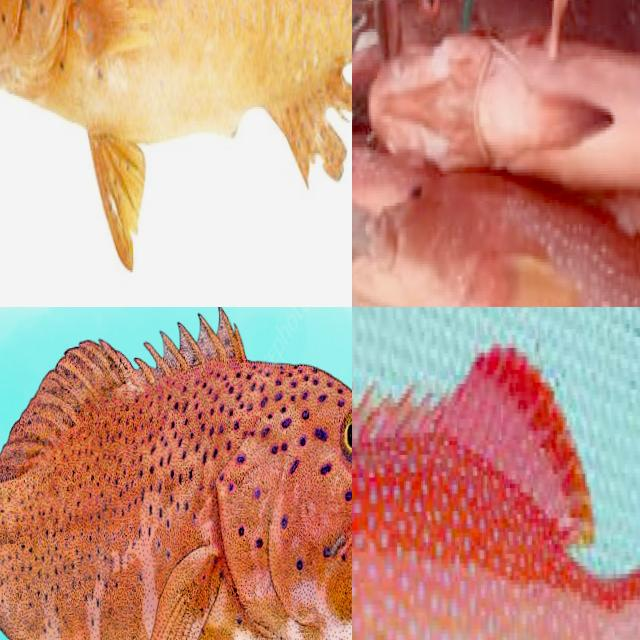Plectropomus-leopardus: (0, 307, 352, 640), (0, 0, 352, 284), (352, 330, 640, 640), (352, 158, 640, 307)
